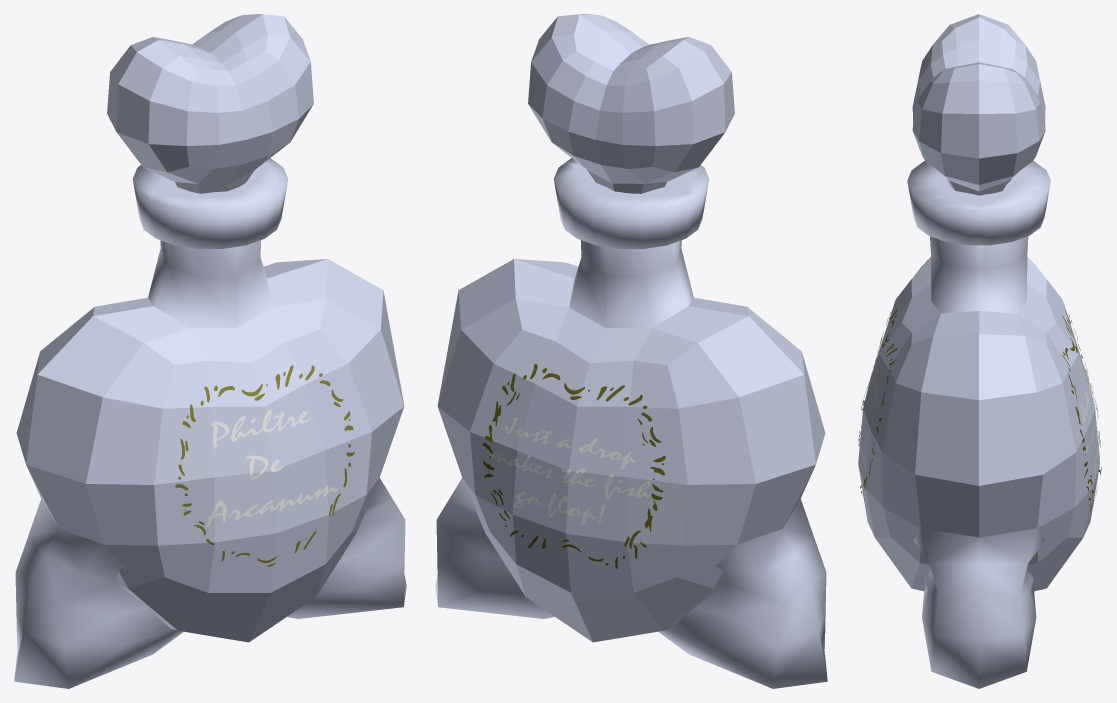
Rendered from elvs_love_potion.glb.
3 views of the same model, side by side, from view 1: azimuth 30°, elevation 25°; view 2: azimuth 150°, elevation 25°; view 3: azimuth 270°, elevation 25° (orthographic). The views are drawn at different scales.
Parts seen in each view (by area): view 1: love_potion_bottle.001; view 2: love_potion_bottle.001; view 3: love_potion_bottle.001.
Boxes of the visible parts, <box> form: love_potion_bottle.001: <box>14,14,406,688</box>; love_potion_bottle.001: <box>435,14,827,688</box>; love_potion_bottle.001: <box>858,14,1101,688</box>.
Size of the model in its own units: 2.27 by 3.34 by 1.33.
Materials: 4 (2 with a texture image).
